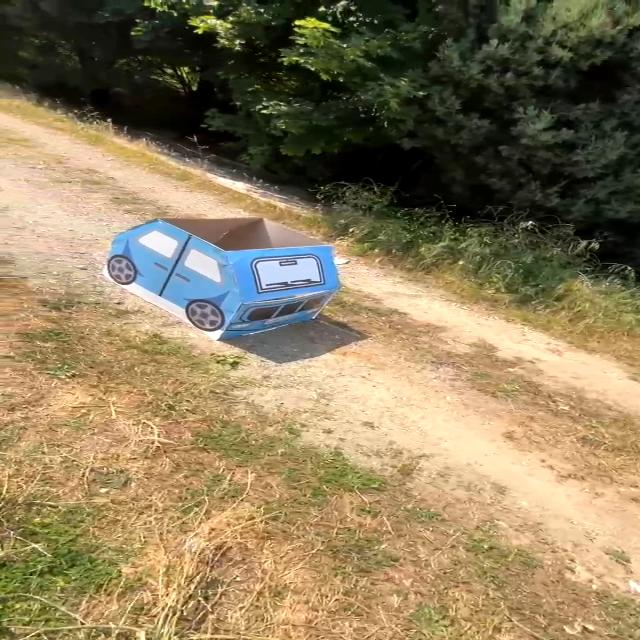blue_car: (81, 209, 363, 358)
